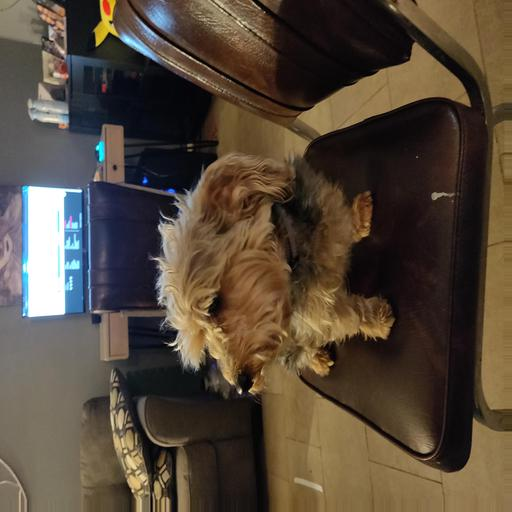dog: (140, 151, 379, 390)
